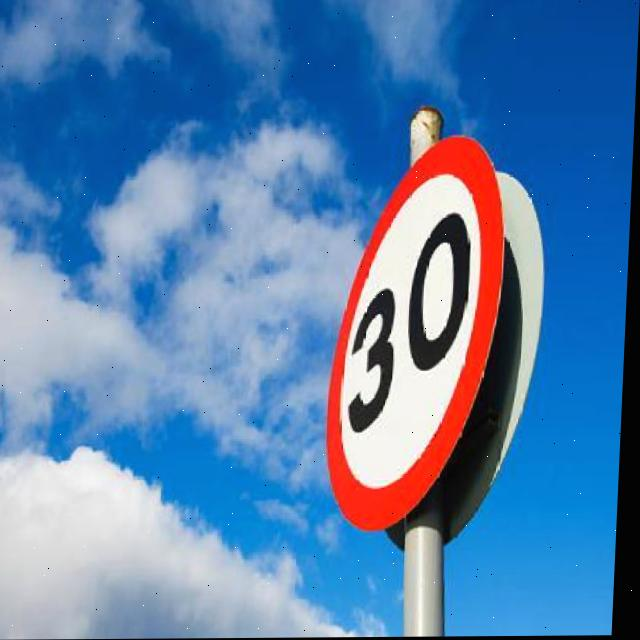Speed limit 30: (331, 130, 500, 533)
